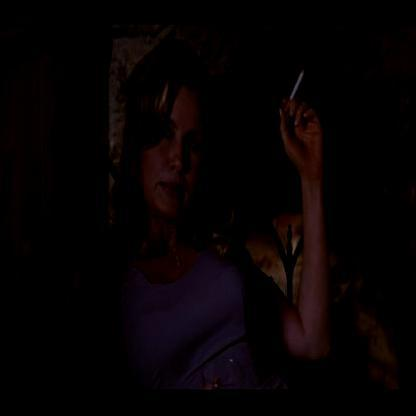cigarette: (284, 67, 308, 115)
person: (92, 42, 262, 392)
